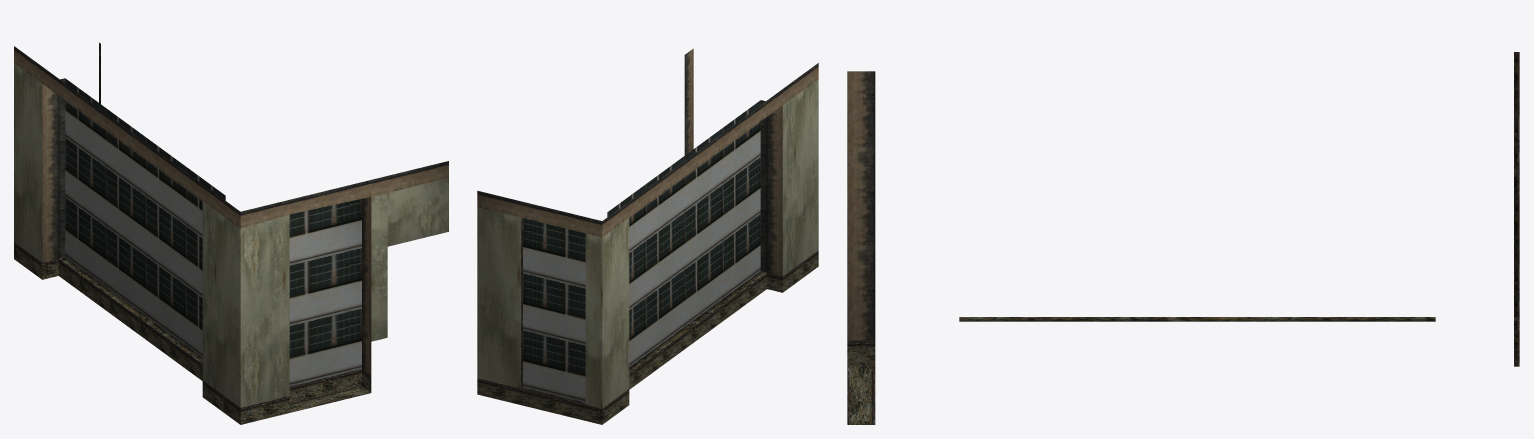
The model's file is M10_Z01_17_NewBild03.glb.
3 renders of one model, left to right at view 1: azimuth 30°, elevation 25°; view 2: azimuth 150°, elevation 25°; view 3: azimuth 270°, elevation 25°, orthographic. The views are drawn at different scales.
Visible parts, largest first — view 1: M10_Z01_17_NEWBILD03; view 2: M10_Z01_17_NEWBILD03; view 3: M10_Z01_17_NEWBILD03.
Boxes of the visible parts, x1,y1,x2,y2 form: M10_Z01_17_NEWBILD03: [14, 42, 448, 424]; M10_Z01_17_NEWBILD03: [477, 48, 818, 424]; M10_Z01_17_NEWBILD03: [847, 52, 1519, 424].
Bounding box in the file's own units: 12.75 × 12.46 × 24.
Materials: 4 (4 with a texture image).
